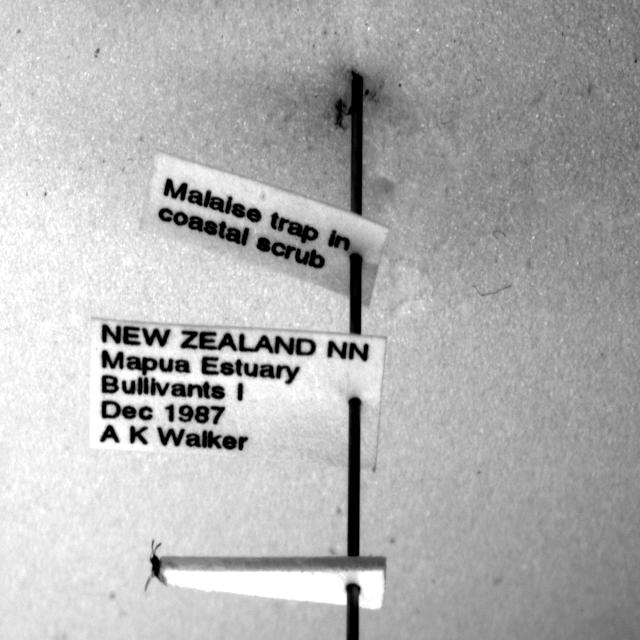typed_label: (90, 319, 386, 469), (141, 152, 388, 304)
